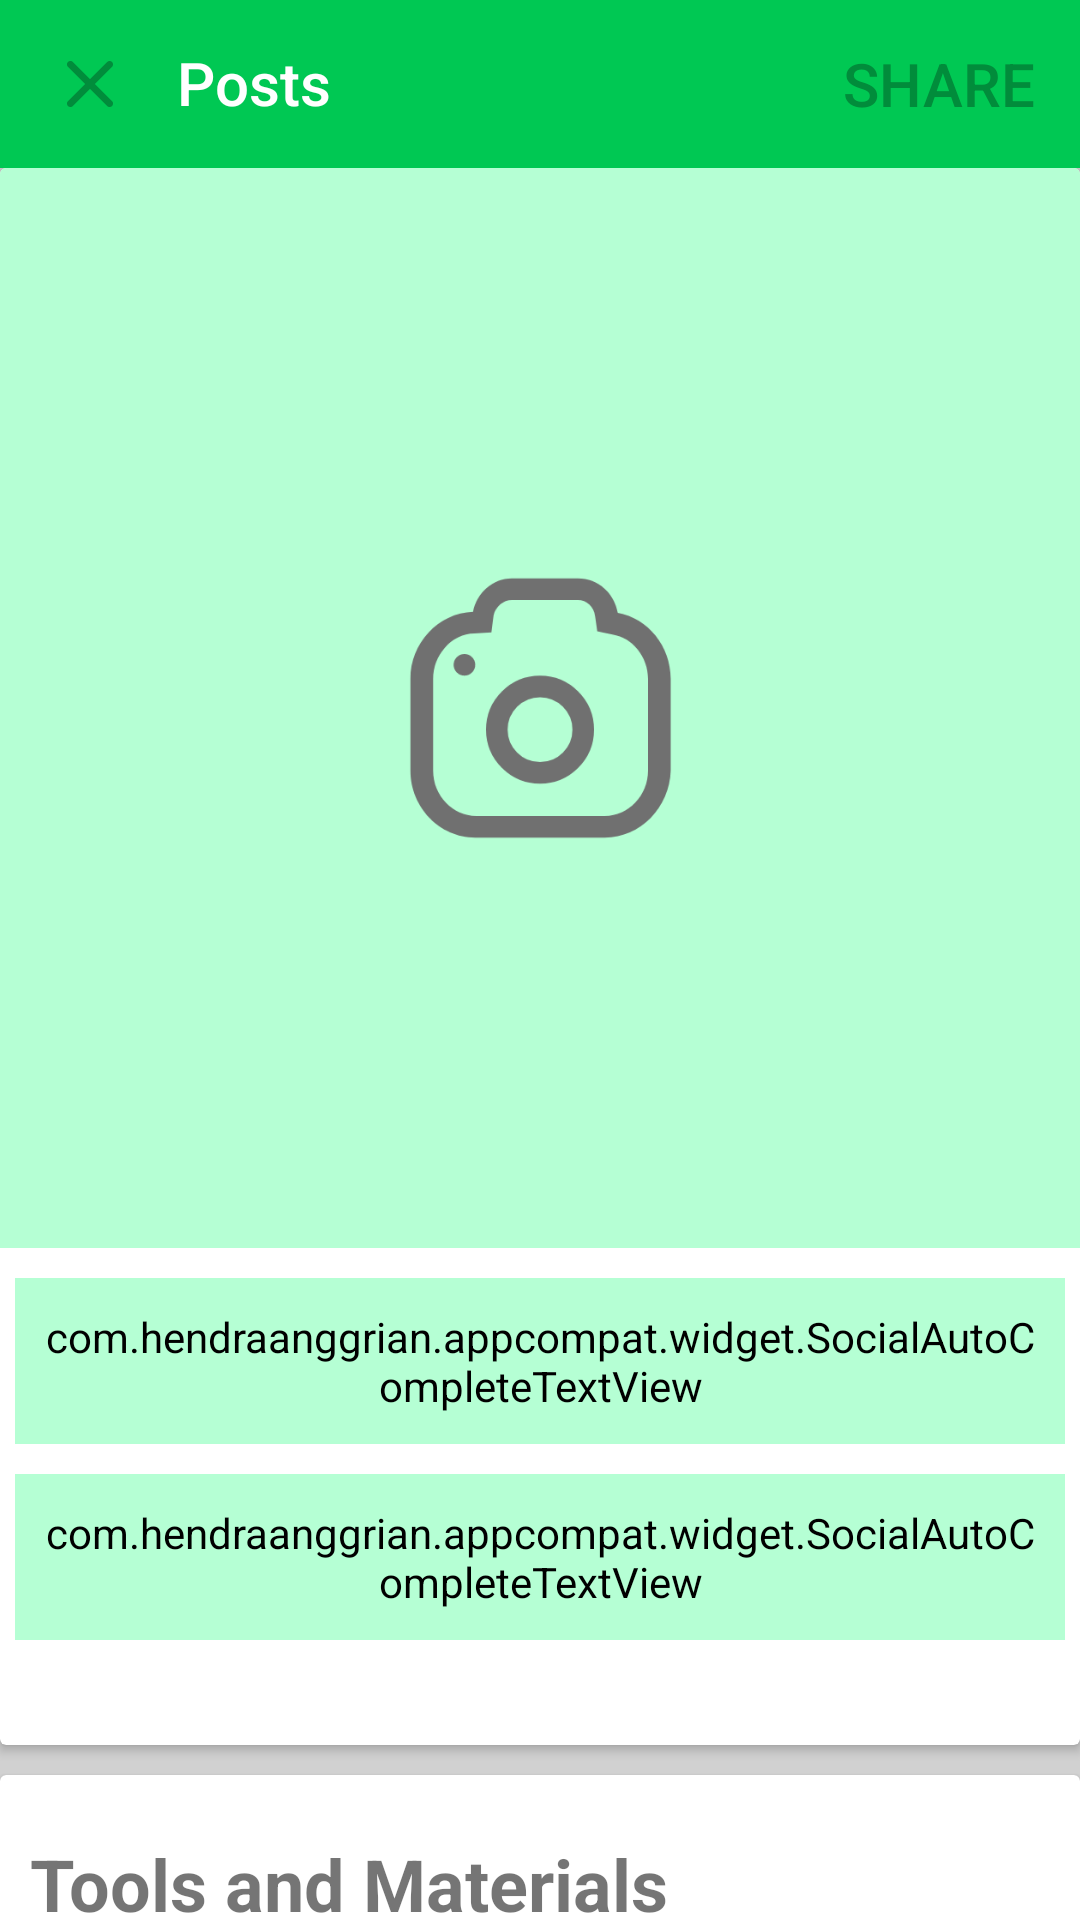

Where to tap for icons on this 1080w x 1920h app screen, as (x=x, y=y):
close: (x=90, y=84)
